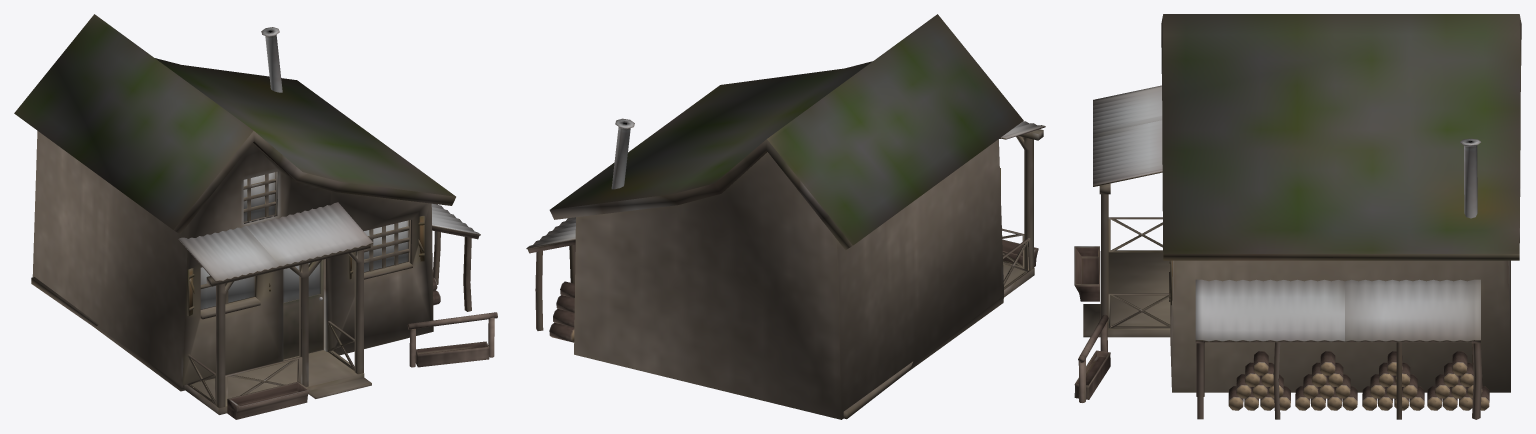
Rendered from nha1vao dc.fbx.
3 views of the same model, side by side, from view 1: azimuth 30°, elevation 25°; view 2: azimuth 150°, elevation 25°; view 3: azimuth 270°, elevation 25° (orthographic). The views are drawn at different scales.
Visible parts, largest first — view 1: HOME, c; view 2: HOME; view 3: HOME.
Part boxes in pixels (x1,y1,x2,y2): HOME: (14,14,497,419); c: (283,259,323,359); HOME: (526,14,1045,419); HOME: (1074,14,1521,419).
Size of the model in its own units: 567 by 419 by 610.
